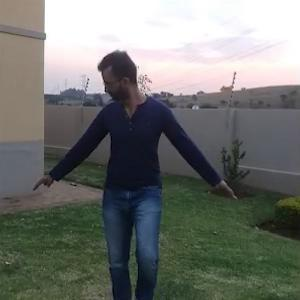land: (32, 46, 234, 290)
